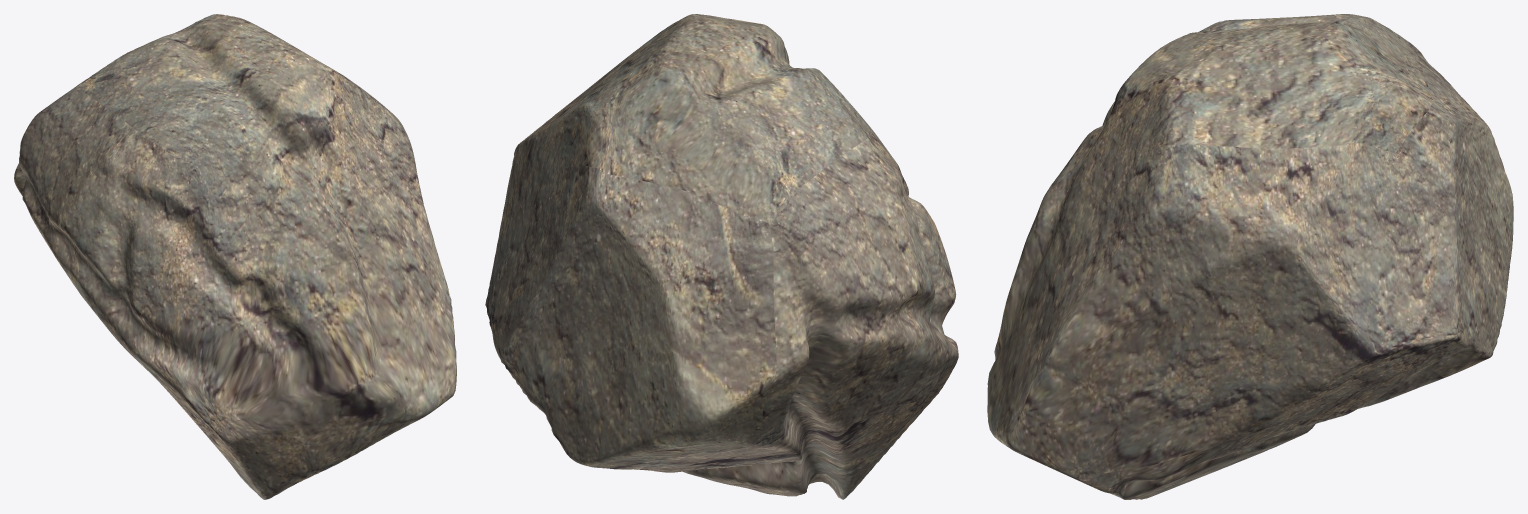
File: rock2.FBX
3 renders of one model, left to right at view 1: azimuth 30°, elevation 25°; view 2: azimuth 150°, elevation 25°; view 3: azimuth 270°, elevation 25°, orthographic. The views are drawn at different scales.
Parts seen in each view (by area): view 1: ZBrush_defualt_group; view 2: ZBrush_defualt_group; view 3: ZBrush_defualt_group.
Part boxes in pixels (x1=…): ZBrush_defualt_group: x1=14, y1=14, x2=456, y2=499; ZBrush_defualt_group: x1=485, y1=14, x2=958, y2=499; ZBrush_defualt_group: x1=987, y1=14, x2=1513, y2=499.
Bounding box in the file's own units: 1.22 × 1.47 × 1.46.
